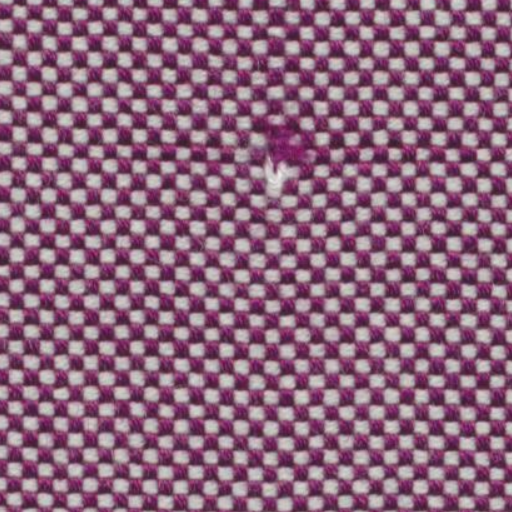MianQiu: (246, 110, 318, 206)
